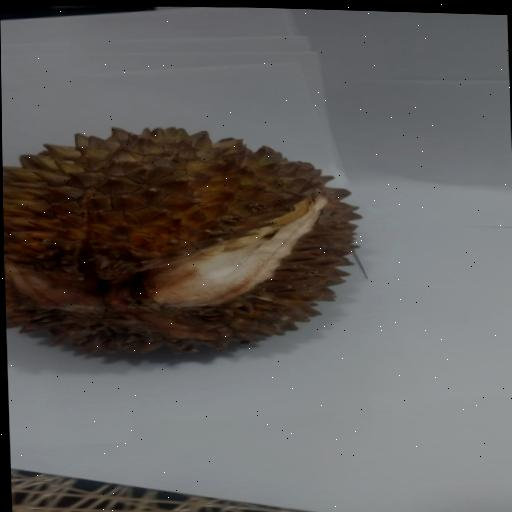rot: (2, 109, 384, 380)
